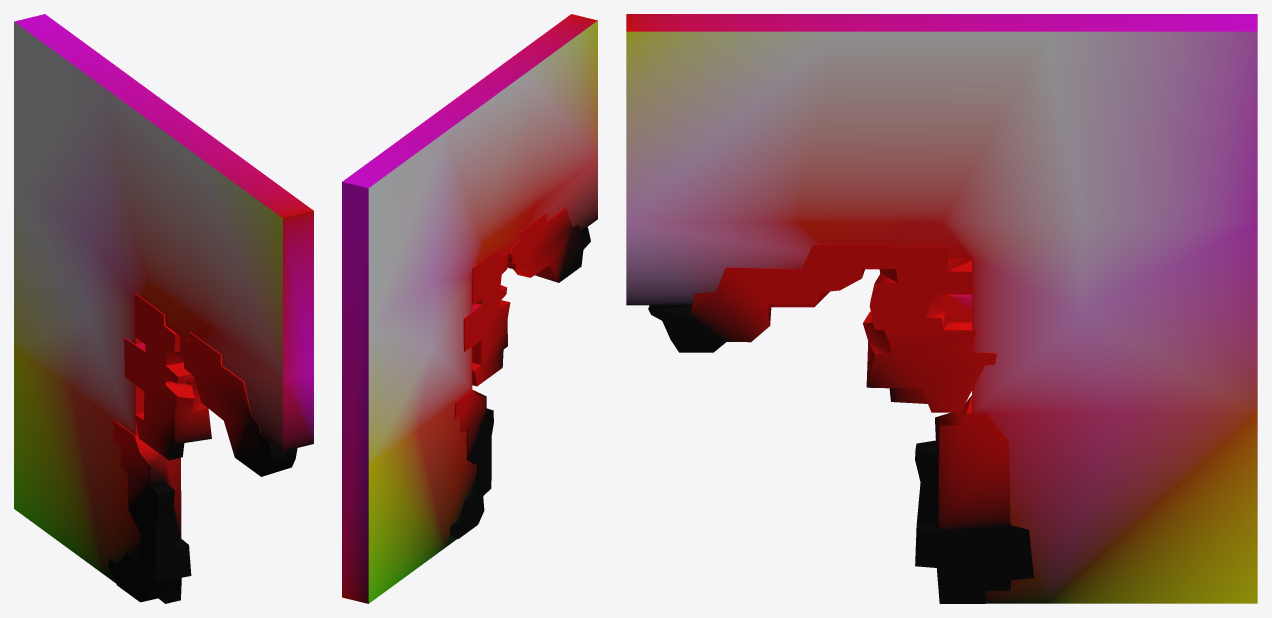
The model's file is DBK_Brick_90_A__1_.fbx.
3 renders of one model, left to right at view 1: azimuth 30°, elevation 25°; view 2: azimuth 150°, elevation 25°; view 3: azimuth 270°, elevation 25°, orthographic. The views are drawn at different scales.
Parts seen in each view (by area): view 1: DBK_Brick_90_A__1_; view 2: DBK_Brick_90_A__1_; view 3: DBK_Brick_90_A__1_.
Boxes of the visible parts, box(x1,y1,x2,y2) form: DBK_Brick_90_A__1_: box(14, 14, 313, 603); DBK_Brick_90_A__1_: box(342, 14, 597, 603); DBK_Brick_90_A__1_: box(626, 14, 1257, 603).
Size of the model in its own units: 21.12 by 300 by 300.
